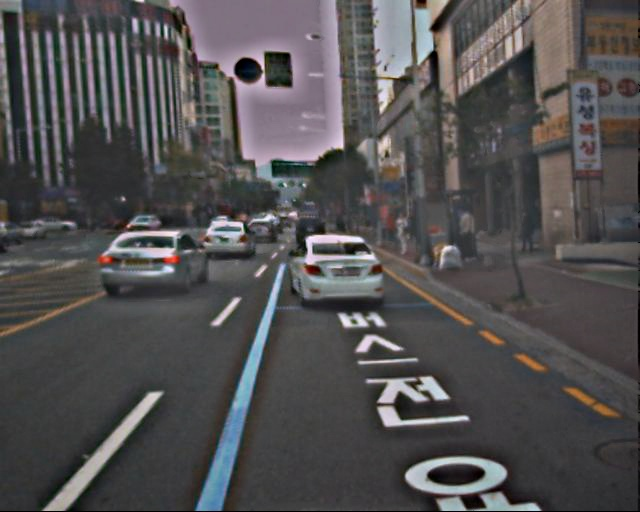person: (455, 205, 480, 265), (517, 211, 536, 258), (393, 211, 412, 257)
